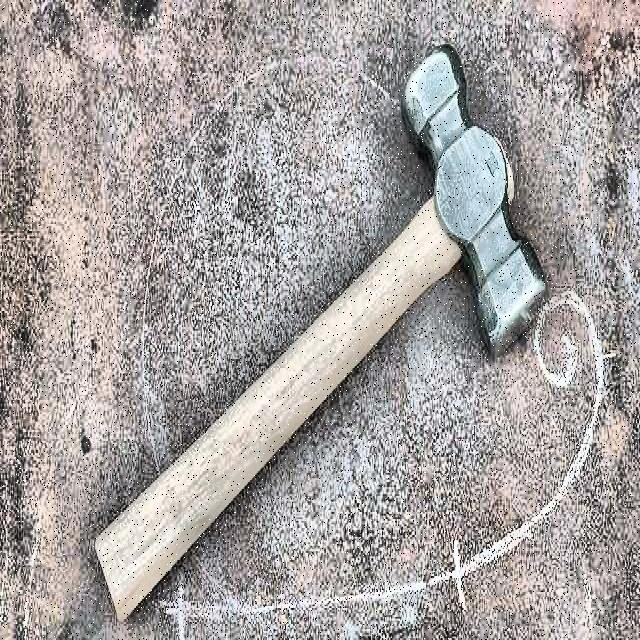hammer: (80, 38, 550, 620)
